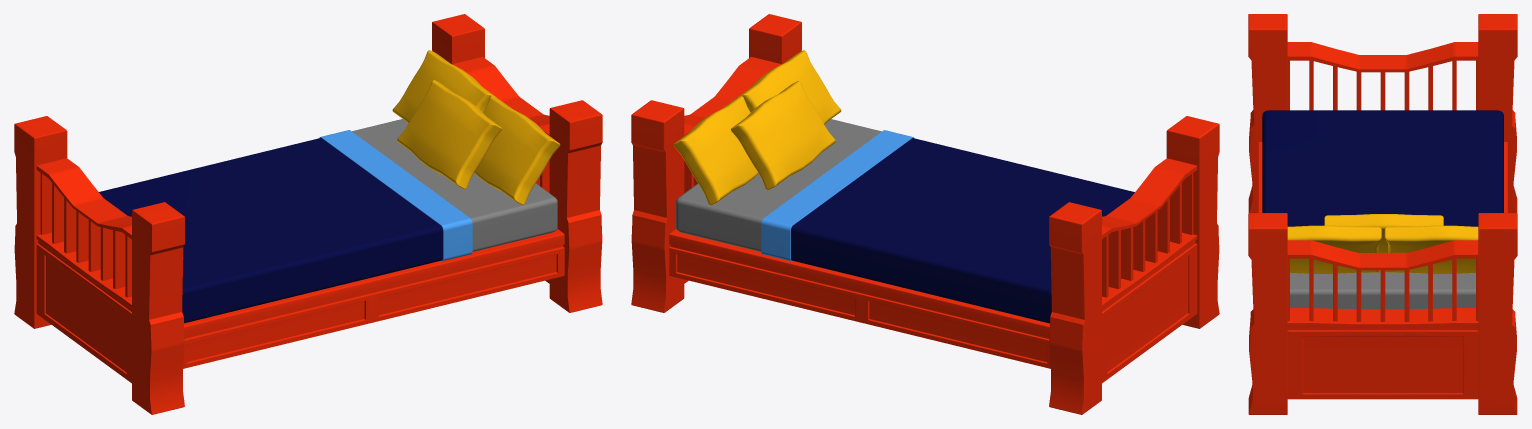
The model's file is sm_olderbed.fbx.
The picture shows the model from 3 angles, left to right: view 1: azimuth 30°, elevation 25°; view 2: azimuth 150°, elevation 25°; view 3: azimuth 270°, elevation 25°; orthographic projection. The views are drawn at different scales.
Visible parts, largest first — view 1: olderbedwood_low, olderbed_low (×3), olderpillows_low; view 2: olderbedwood_low, olderbed_low (×3), olderpillows_low; view 3: olderbedwood_low, olderbed_low (×2), olderpillows_low.
Boxes of the visible parts, bbox=[...] form: olderbedwood_low: bbox=[14, 14, 602, 414]; olderbed_low (×3): bbox=[99, 119, 557, 323]; olderpillows_low: bbox=[392, 50, 560, 205]; olderbedwood_low: bbox=[631, 14, 1219, 414]; olderbed_low (×3): bbox=[676, 119, 1134, 323]; olderpillows_low: bbox=[673, 50, 841, 205]; olderbedwood_low: bbox=[1248, 14, 1517, 414]; olderbed_low (×2): bbox=[1262, 110, 1503, 309]; olderpillows_low: bbox=[1287, 214, 1478, 273].
Bounding box in the file's own units: 183 × 74.2 × 96.97.
